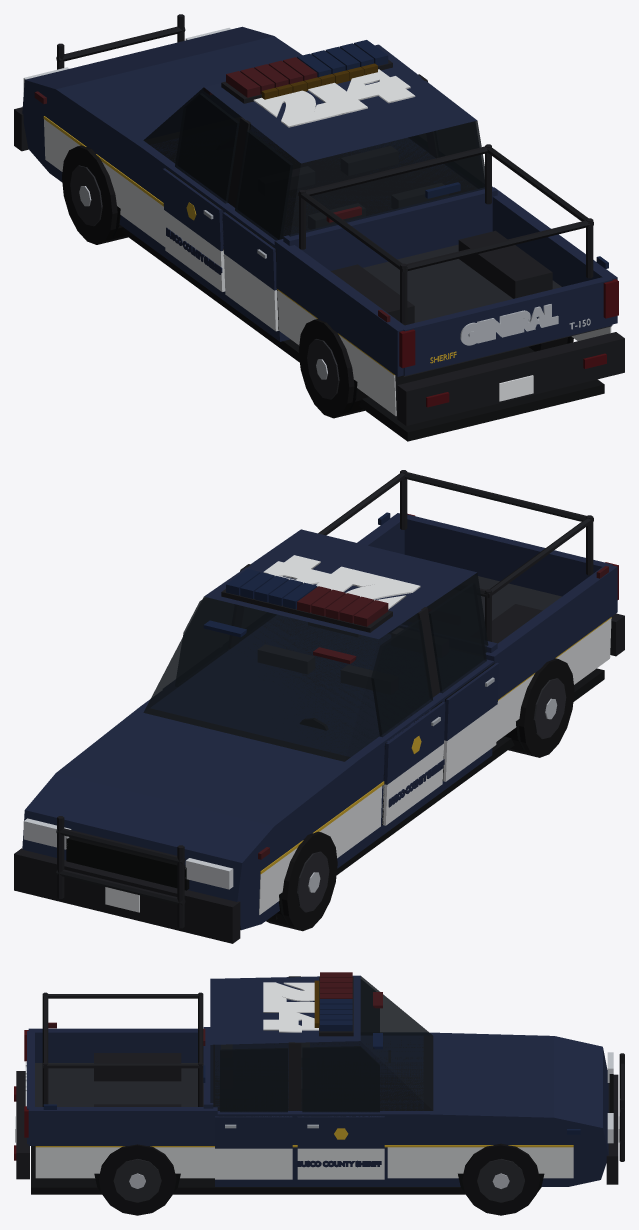
File: sheriff_pickup.glb
3 views of the same model, one above another, from view 1: azimuth 30°, elevation 25°; view 2: azimuth 150°, elevation 25°; view 3: azimuth 270°, elevation 25° (orthographic). The views are drawn at different scales.
Parts seen in each view (by area): view 1: Body, Door_FL, Door_RL, Wheel_RL, Wheel_FL, Decal_Roof, Interior, Decal_Tailgate, Plate_Rear, Taillight_L, Taillight_R; view 2: Body, Door_FL, Door_RL, Wheel_RL, Wheel_FL, Decal_Roof, Interior, LightBar_Housing, Headlight_L, Headlight_R; view 3: Body, Door_FR, Door_RR, Wheel_FR, Wheel_RR, Decal_Roof, Decal_Sheriff_FR, ELS_CELL_9, LightBar_Housing.
Boxes of the visible parts, x1=… form: Body: x1=14, y1=14, x2=624, y2=441; Door_FL: x1=162, y1=93, x2=239, y2=291; Door_RL: x1=222, y1=130, x2=293, y2=331; Wheel_RL: x1=298, y1=319, x2=368, y2=418; Wheel_FL: x1=62, y1=145, x2=127, y2=244; Decal_Roof: x1=253, y1=69, x2=415, y2=127; Interior: x1=289, y1=146, x2=448, y2=229; Decal_Tailgate: x1=460, y1=304, x2=558, y2=345; Plate_Rear: x1=499, y1=375, x2=533, y2=401; Taillight_L: x1=399, y1=329, x2=415, y2=368; Taillight_R: x1=603, y1=279, x2=618, y2=318; Body: x1=14, y1=470, x2=624, y2=943; Door_FL: x1=371, y1=619, x2=445, y2=825; Door_RL: x1=428, y1=583, x2=498, y2=781; Wheel_RL: x1=504, y1=658, x2=574, y2=757; Wheel_FL: x1=266, y1=831, x2=337, y2=931; Decal_Roof: x1=263, y1=555, x2=420, y2=609; Interior: x1=258, y1=622, x2=403, y2=730; LightBar_Housing: x1=221, y1=589, x2=392, y2=632; Headlight_L: x1=185, y1=858, x2=233, y2=889; Headlight_R: x1=23, y1=818, x2=71, y2=849; Body: x1=16, y1=975, x2=624, y2=1194; Door_FR: x1=297, y1=1046, x2=384, y2=1179; Door_RR: x1=215, y1=1048, x2=292, y2=1179; Wheel_FR: x1=462, y1=1143, x2=539, y2=1215; Wheel_RR: x1=98, y1=1144, x2=176, y2=1215; Decal_Roof: x1=263, y1=982, x2=318, y2=1032; Decal_Sheriff_FR: x1=297, y1=1160, x2=381, y2=1167; ELS_CELL_9: x1=320, y1=1020, x2=352, y2=1031; LightBar_Housing: x1=319, y1=977, x2=353, y2=1036.
Bounding box in the file's own units: 2.1 × 1.99 × 6.3.
